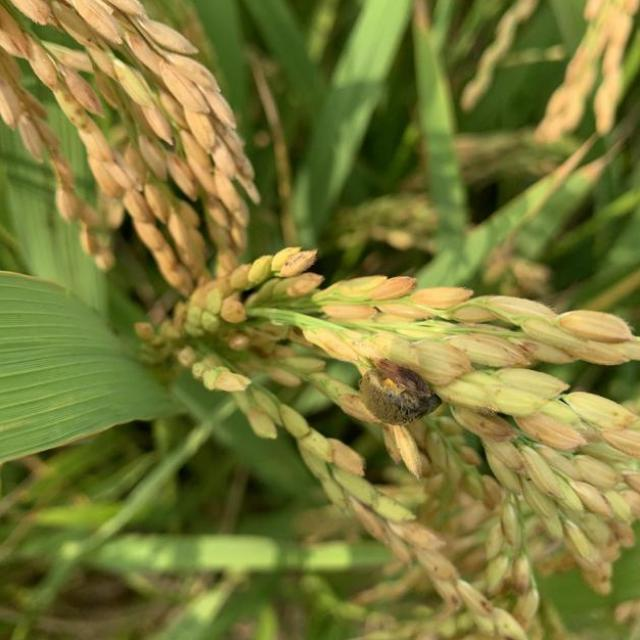Leaf_Scald: (357, 357, 442, 431)
